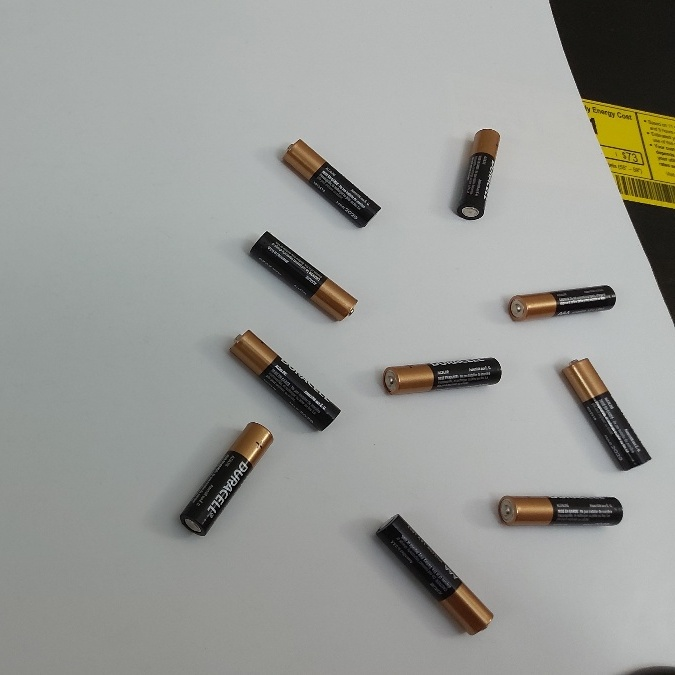battery: (374, 513, 488, 642), (245, 224, 363, 325), (224, 327, 341, 428), (174, 420, 274, 535), (557, 355, 650, 472), (277, 134, 381, 228), (495, 489, 630, 530), (453, 127, 503, 225), (379, 355, 503, 394), (504, 282, 618, 323)
